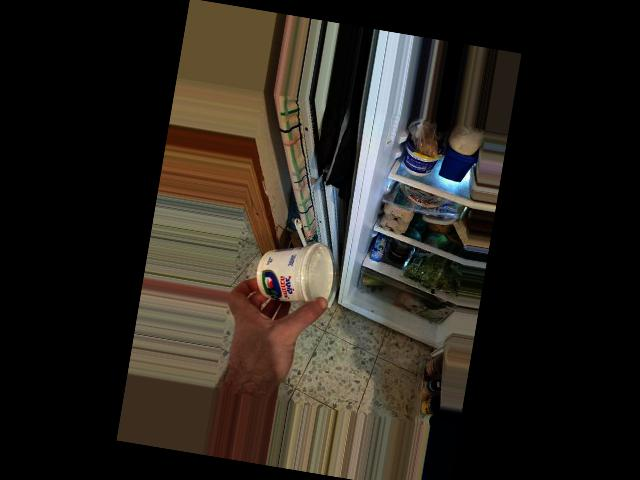cotage: (248, 231, 342, 321)
